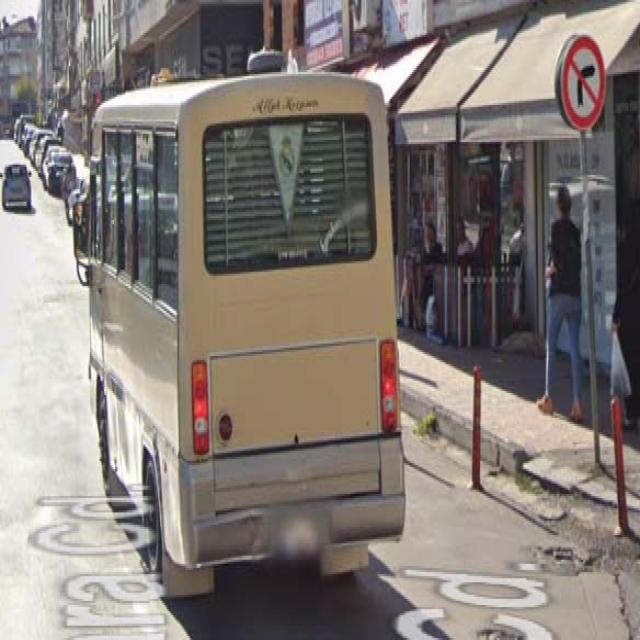sagadonulmez: (561, 37, 606, 128)
